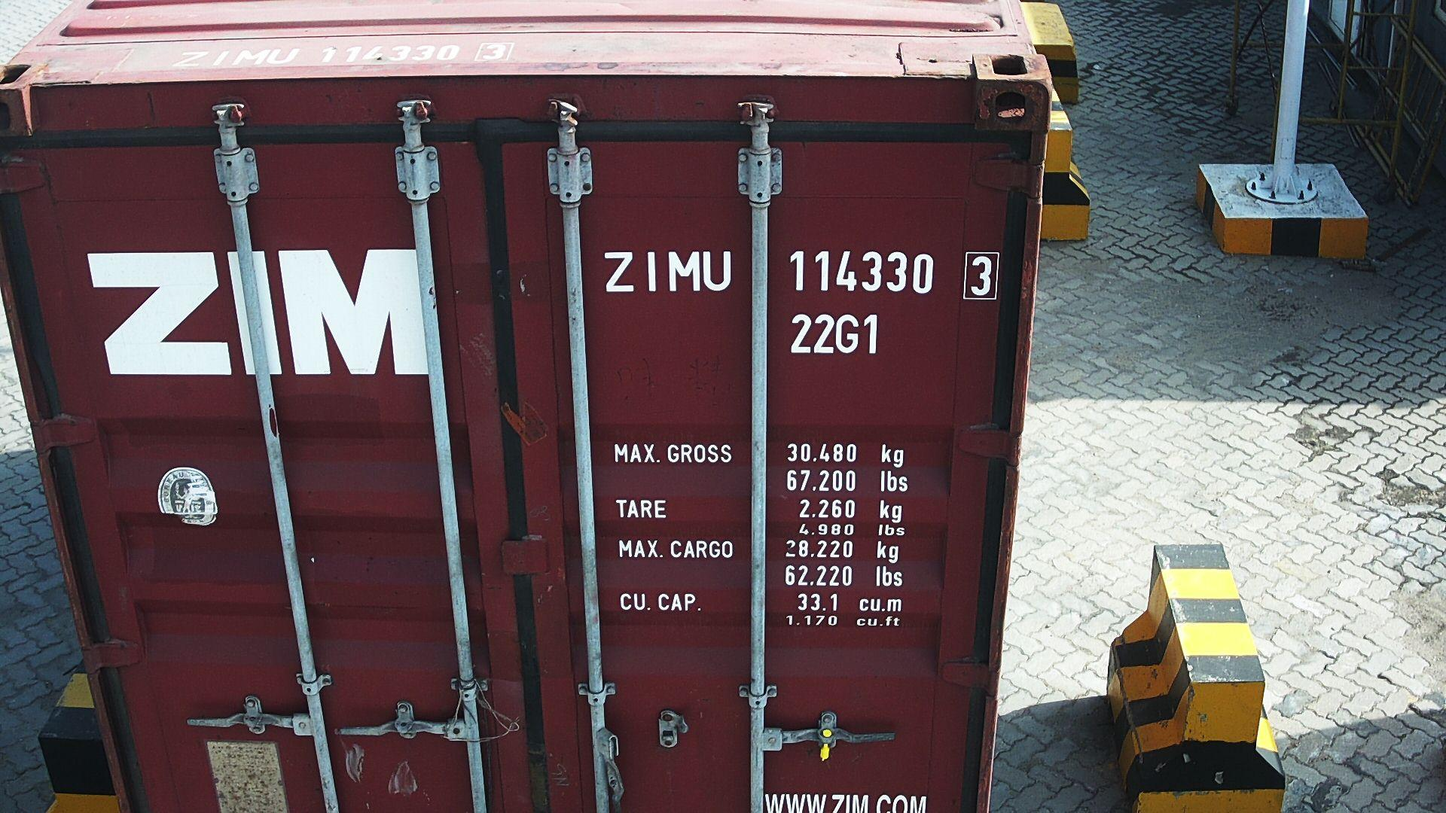container-numbers: (602, 245, 1002, 302), (170, 41, 523, 72), (787, 309, 883, 358)
